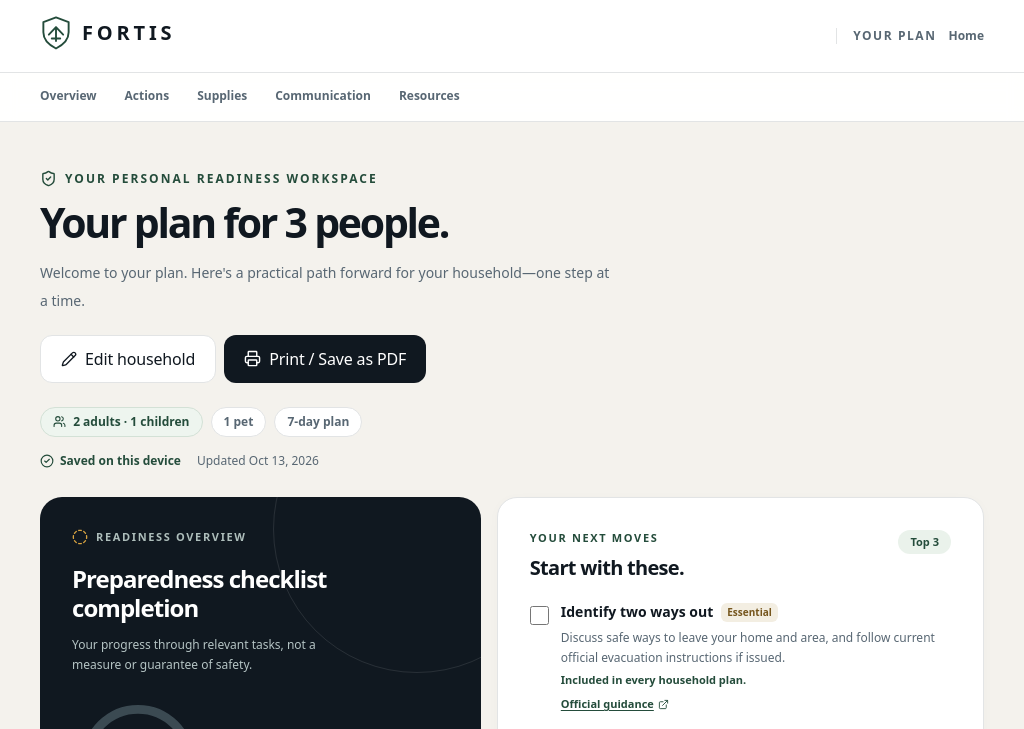
Test: dashboard interaction and printable plan › updates checklist completion, inventory and contacts, then prints the current data
What coordinates should you click on to do the following:
click the checkbox named "Complete "
I would click on:
 (539, 616)
Its box is [530,606,549,625].
(page scrolled)
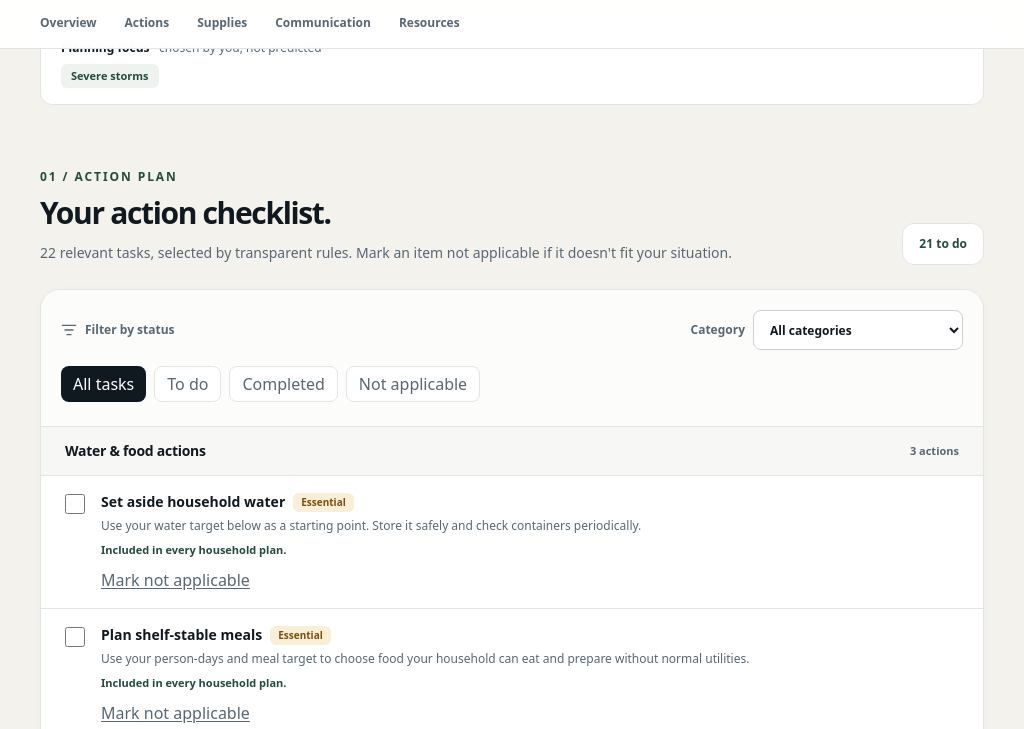
What coordinates should you click on to do the following:
click the button "Completed"
I would click on:
 (284, 384)
Its box is [229,366,338,402].
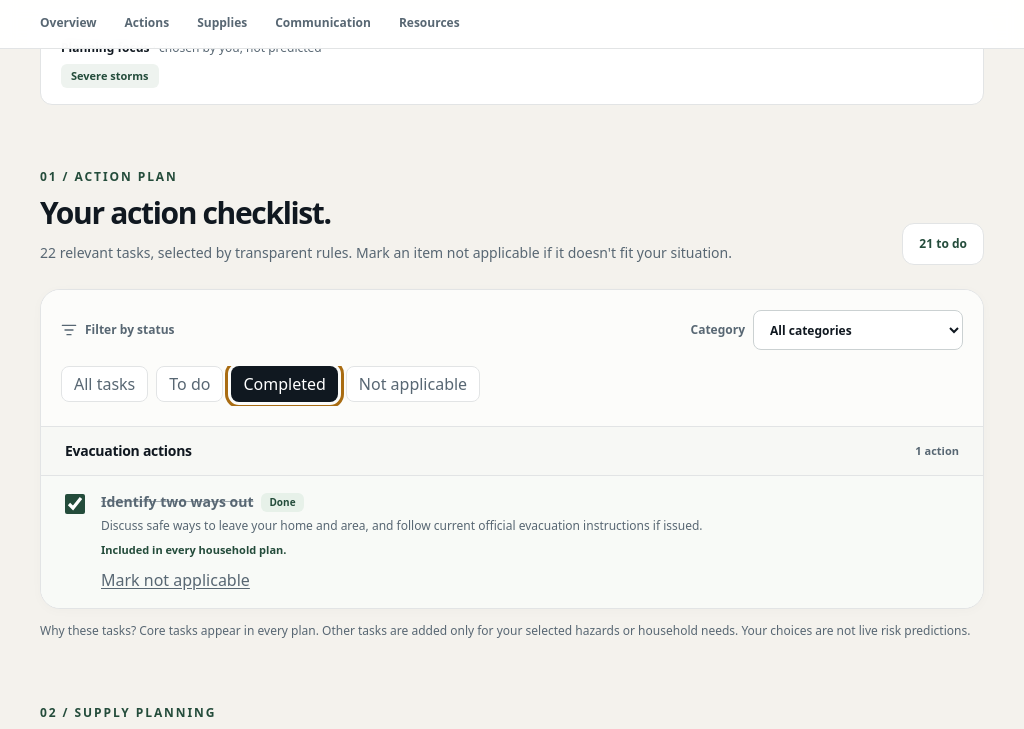
Now the text "Done" is shown once, box [262,493,304,512]
